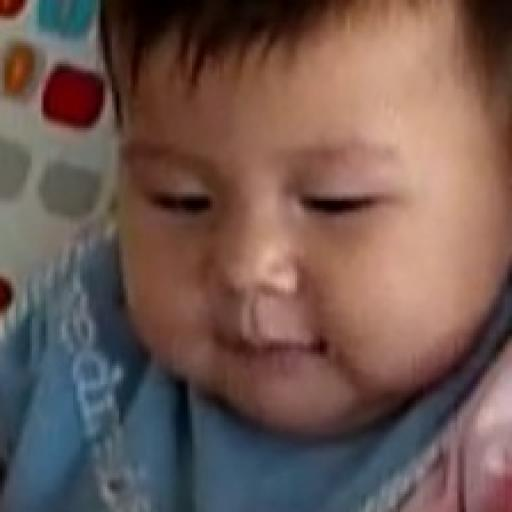Autism: (91, 28, 512, 463)
